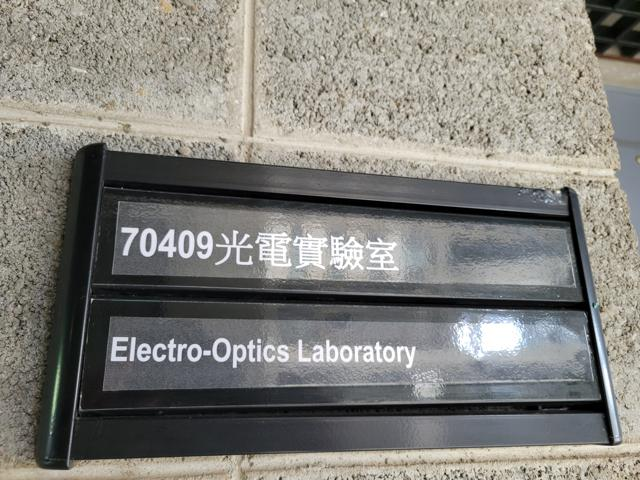doorplate: (29, 135, 627, 471)
